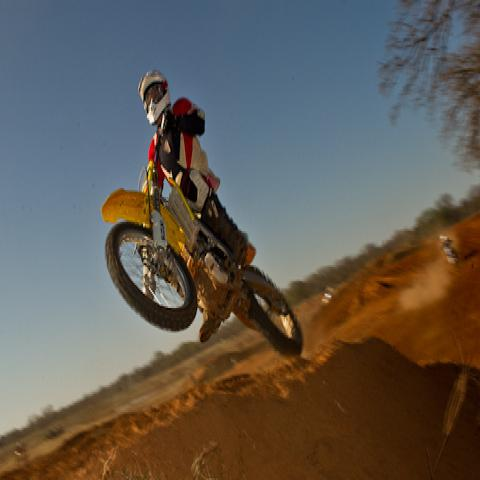motorcycle: (99, 109, 303, 356)
